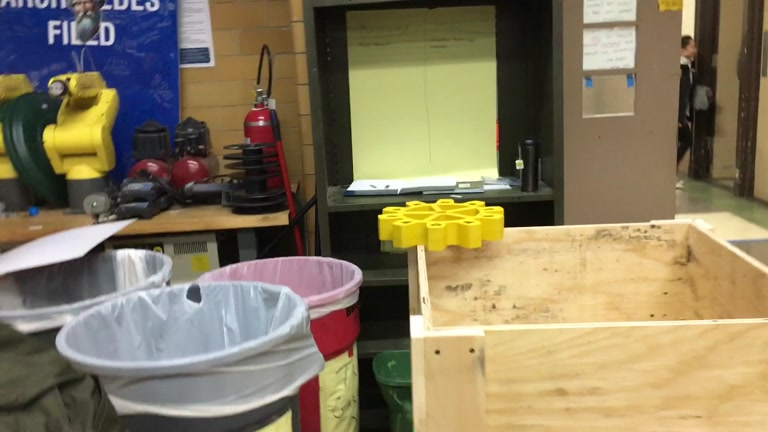gear: (376, 198, 505, 251)
